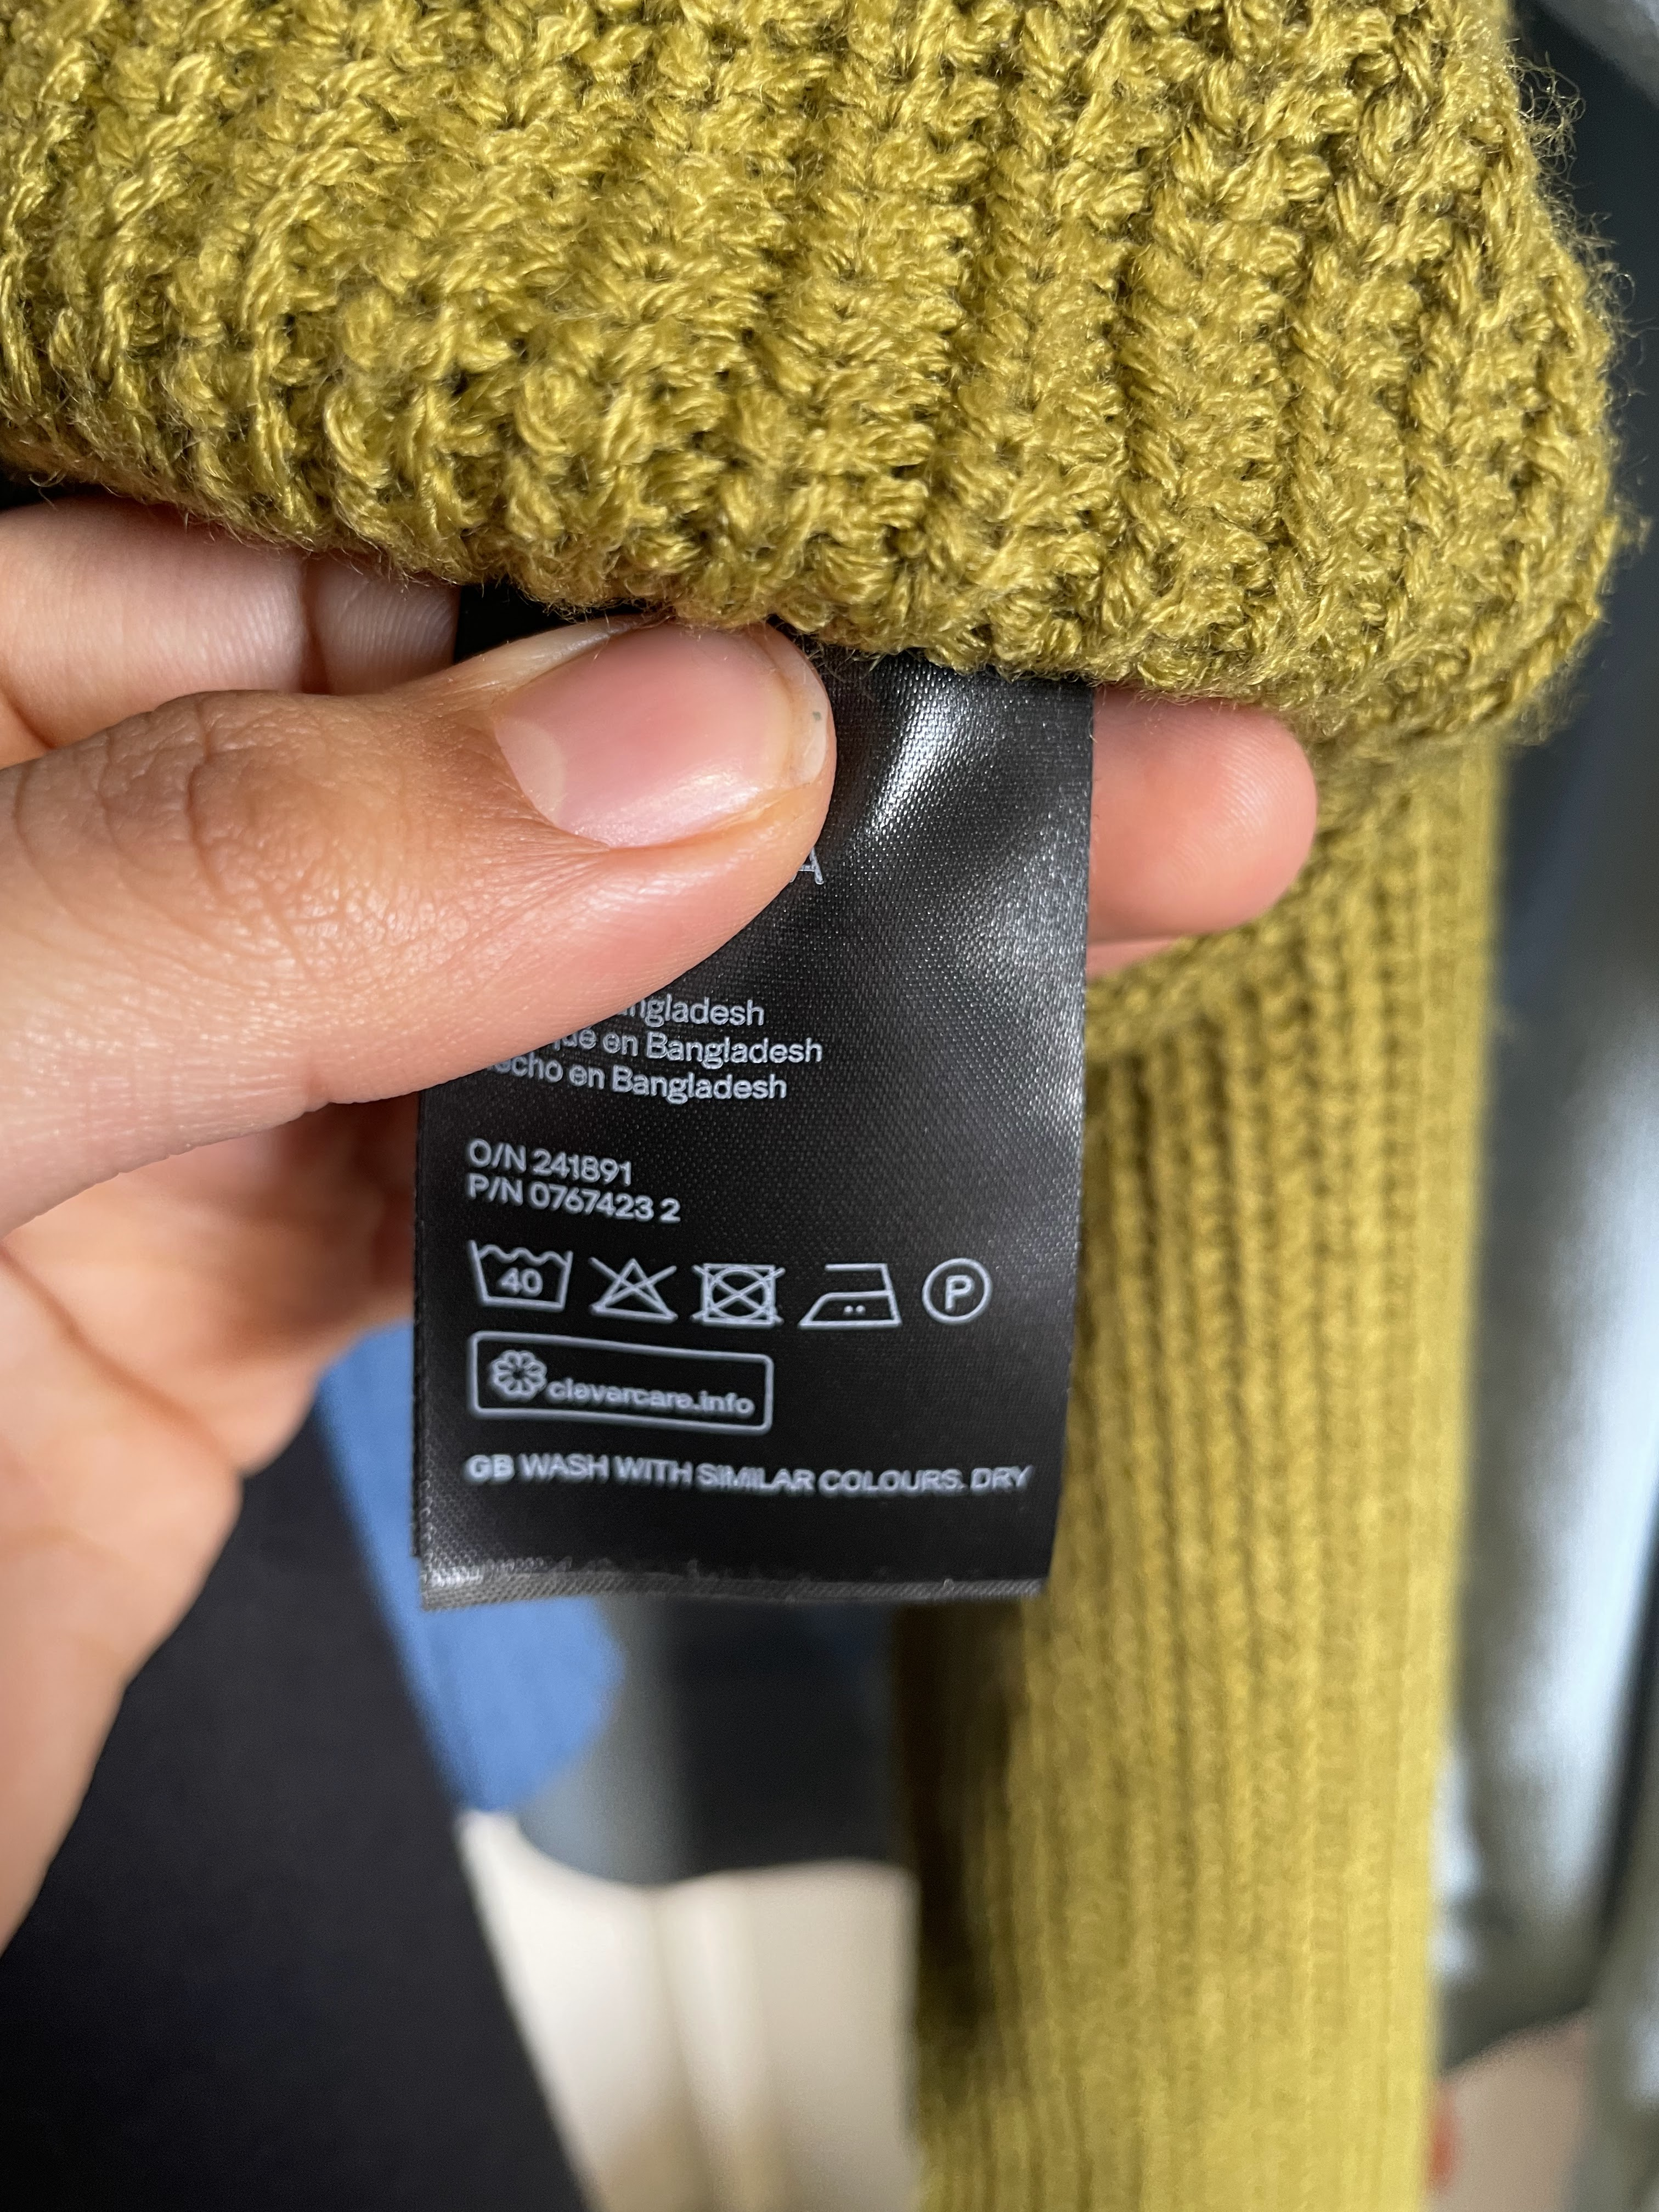do not bleach: (586, 1247, 687, 1343)
do not tumble dry: (690, 1242, 786, 1338)
dry clean: (915, 1251, 1009, 1336)
iron medium temp: (793, 1252, 920, 1346)
wash at or below 40: (458, 1224, 587, 1329)
